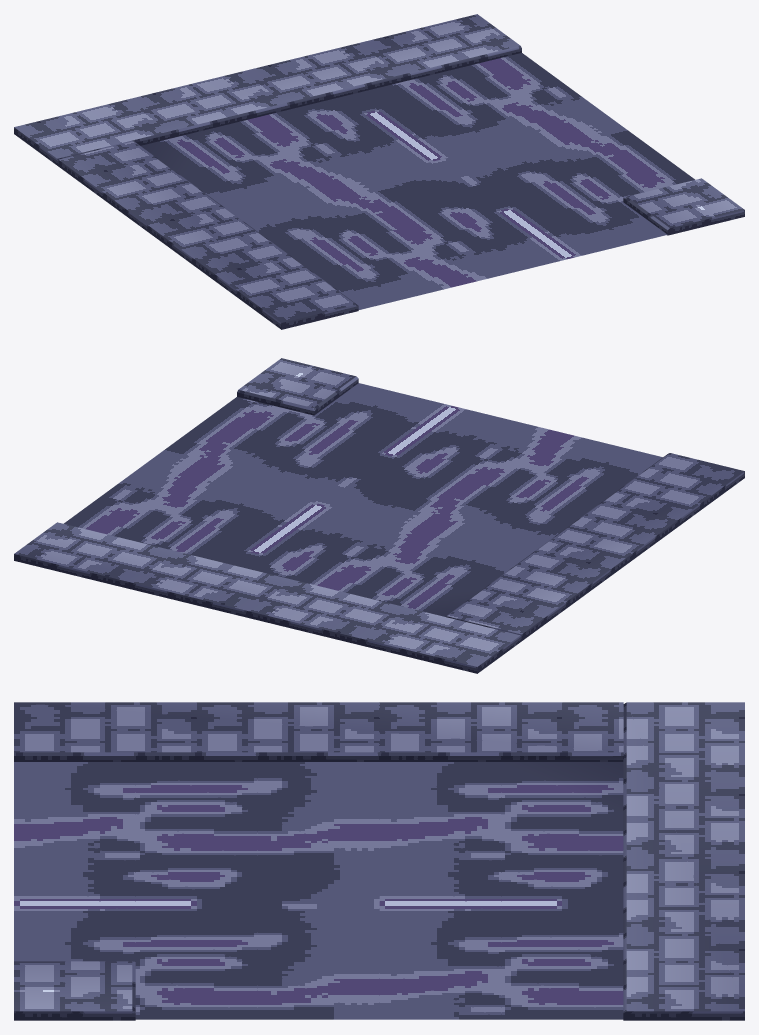
The model's file is cystreet.corner.glb.
3 views of the same model, one above another, from view 1: azimuth 30°, elevation 25°; view 2: azimuth 150°, elevation 25°; view 3: azimuth 270°, elevation 25° (orthographic). The views are drawn at different scales.
Parts seen in each view (by area): view 1: kit_shell_road, kit_walks; view 2: kit_shell_road, kit_walks; view 3: kit_shell_road, kit_walks.
Part boxes in pixels (left/top/right/bottom): kit_shell_road: left=141, top=53, right=694, bottom=309; kit_walks: left=14, top=14, right=744, bottom=329; kit_shell_road: left=64, top=383, right=662, bottom=616; kit_walks: left=14, top=358, right=744, bottom=673; kit_shell_road: left=14, top=762, right=623, bottom=1019; kit_walks: left=14, top=702, right=744, bottom=1020.
Bounding box in the file's own units: 12 × 0.17 × 12.
Materials: 3 (3 with a texture image).
